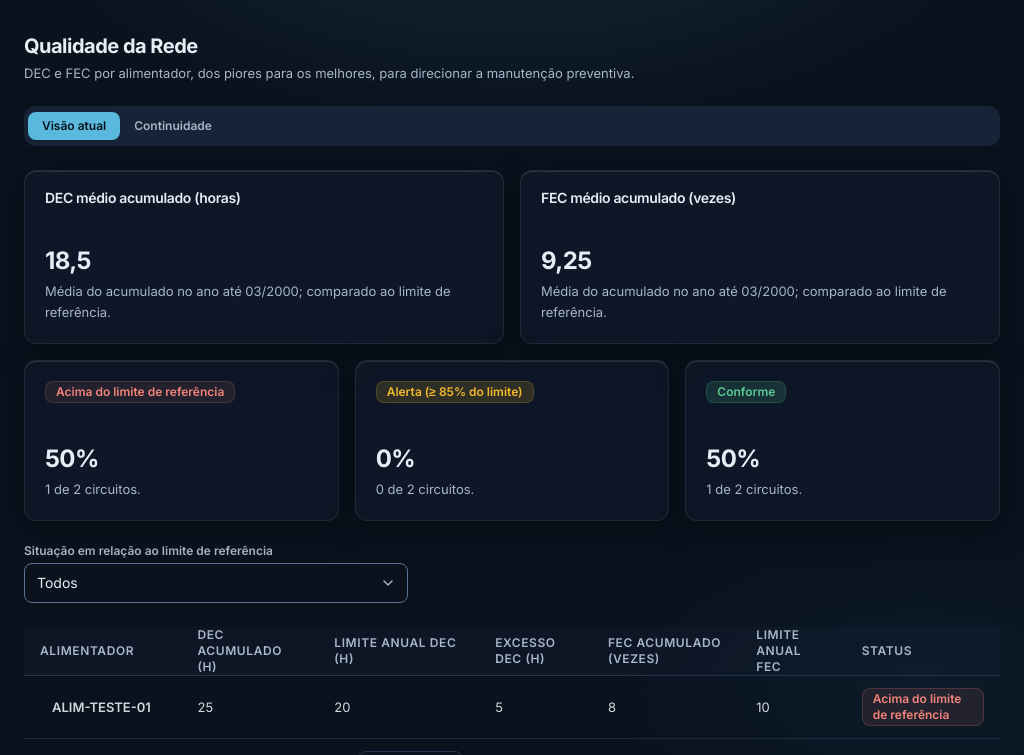
Test: GridQualityPage › abre a gaveta com o histórico do alimentador ao clicar no código
What coordinates should you click on to do the following:
click the button "ALIM-TESTE-01"
I would click on:
 (101, 707)
Its box is x1=40 y1=691 x2=163 y2=723.
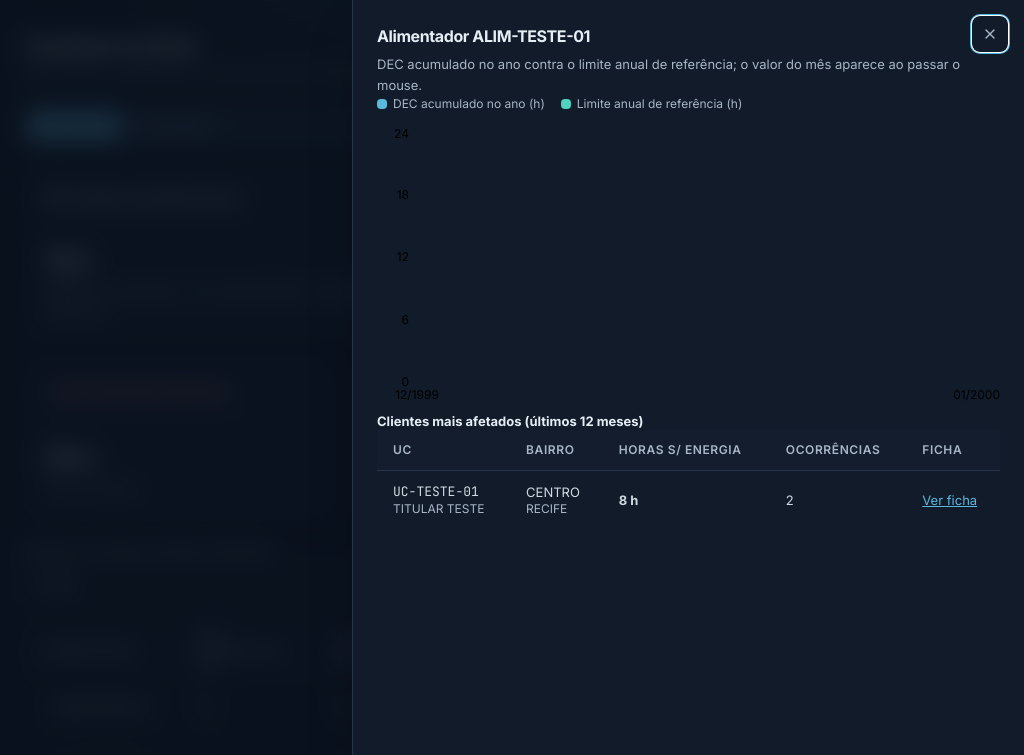
expect the heading "Alimentador ALIM-TESTE-01" is shown: met, box x1=377 y1=26 x2=590 y2=46
expect the text "DEC acumulado no ano (h)" is shown: met, box x1=377 y1=96 x2=545 y2=112
